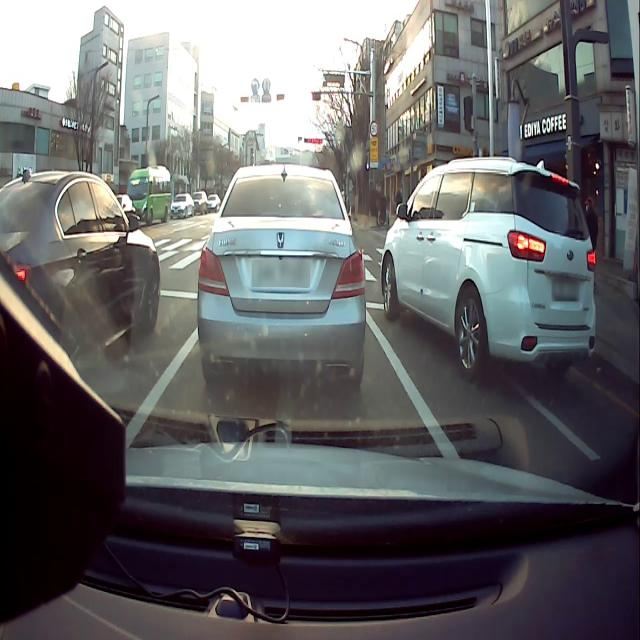Red Light: (305, 89, 313, 102)
